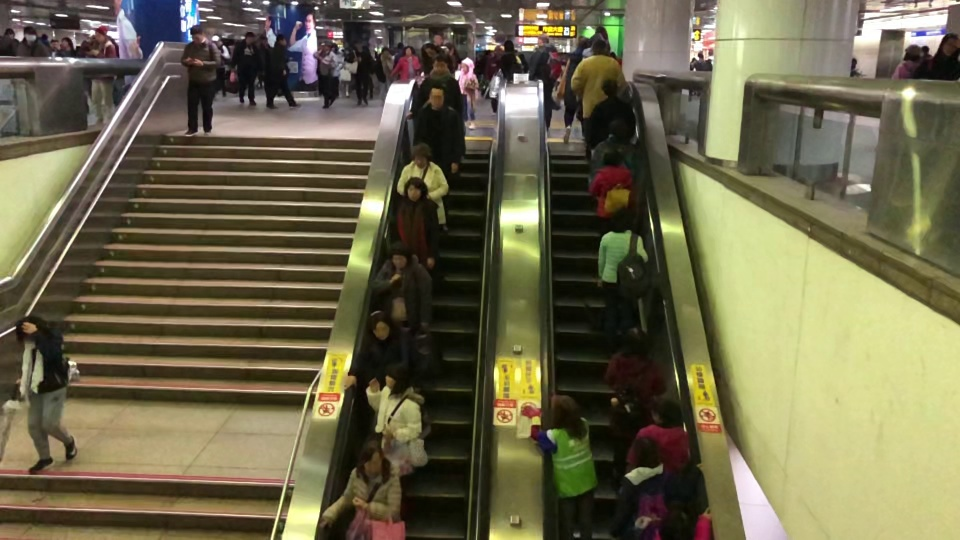person_head: (649, 393, 685, 426), (549, 392, 580, 427), (658, 509, 693, 540), (357, 441, 385, 476), (621, 326, 651, 355), (634, 438, 662, 468), (15, 315, 44, 343), (383, 361, 411, 390), (368, 310, 391, 339), (388, 241, 411, 268), (402, 176, 428, 199), (411, 142, 431, 167), (613, 209, 634, 230), (428, 85, 446, 108), (940, 32, 957, 56), (601, 148, 622, 166), (601, 75, 618, 97), (432, 55, 450, 74), (592, 39, 611, 56), (609, 120, 627, 137), (902, 43, 920, 60), (189, 23, 204, 43), (23, 23, 36, 41), (94, 26, 106, 41), (432, 33, 445, 45), (461, 59, 473, 72), (503, 38, 514, 52), (275, 34, 287, 46), (537, 33, 549, 45), (577, 37, 590, 48), (244, 31, 255, 43), (5, 28, 15, 39), (62, 37, 72, 48), (403, 45, 412, 56), (51, 39, 59, 48), (851, 57, 857, 68), (355, 40, 363, 48), (381, 46, 389, 54), (322, 42, 329, 50), (698, 51, 705, 59)
person_vbox: (520, 392, 597, 540), (15, 314, 80, 475), (605, 326, 667, 492), (607, 438, 704, 540), (596, 206, 649, 357), (411, 85, 465, 231), (318, 440, 402, 524), (370, 241, 432, 335), (390, 175, 444, 278), (343, 310, 411, 390), (626, 393, 690, 475), (365, 361, 424, 445), (180, 22, 221, 139), (570, 38, 625, 122), (396, 143, 449, 227), (587, 76, 637, 156), (589, 147, 638, 227), (406, 55, 464, 121), (527, 33, 562, 135), (590, 119, 642, 180), (561, 37, 590, 142), (86, 27, 117, 123), (266, 34, 302, 110), (343, 40, 374, 110), (231, 31, 259, 105), (917, 31, 958, 81), (456, 58, 481, 130), (313, 41, 335, 111), (496, 38, 529, 81), (390, 44, 420, 81), (16, 23, 49, 56), (891, 43, 921, 79), (375, 45, 391, 103), (850, 56, 862, 76), (695, 52, 707, 70)
